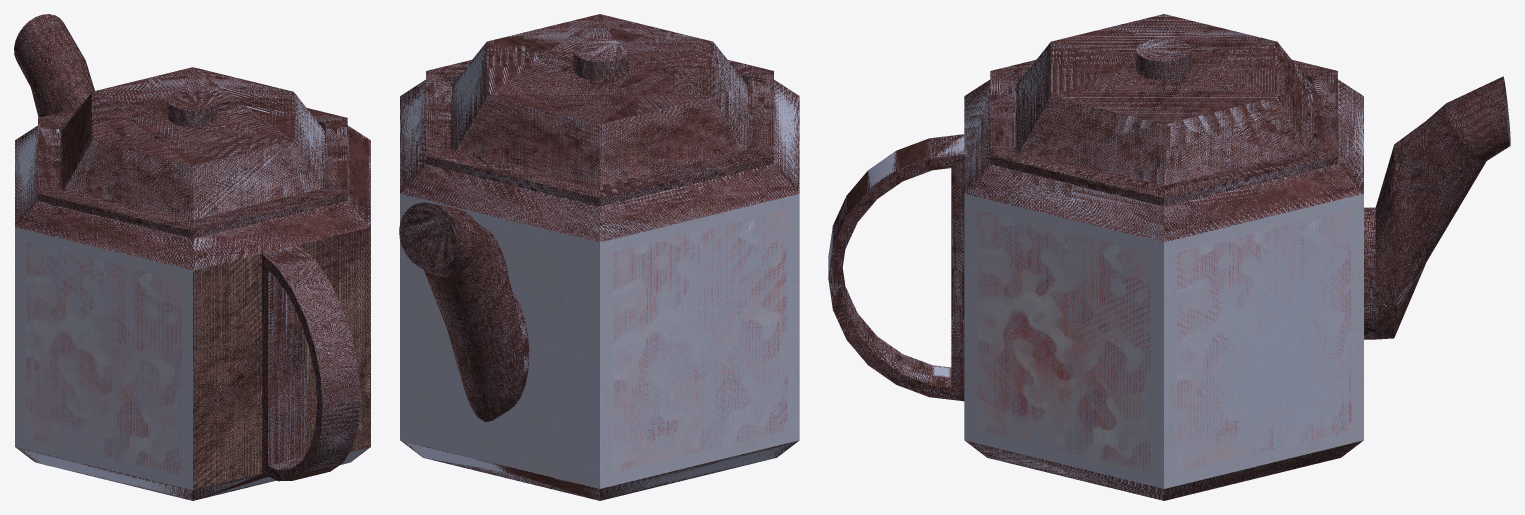
Rendered from Teapot.fbx.
The picture shows the model from 3 angles, left to right: view 1: azimuth 30°, elevation 25°; view 2: azimuth 150°, elevation 25°; view 3: azimuth 270°, elevation 25°; orthographic projection. The views are drawn at different scales.
Parts seen in each view (by area): view 1: Model; view 2: Model; view 3: Model.
Boxes of the visible parts, x1=… form: Model: x1=14, y1=14, x2=370, y2=500; Model: x1=399, y1=14, x2=799, y2=500; Model: x1=828, y1=14, x2=1510, y2=500.
Bounding box in the file's own units: 12.43 × 10.83 × 18.38.
